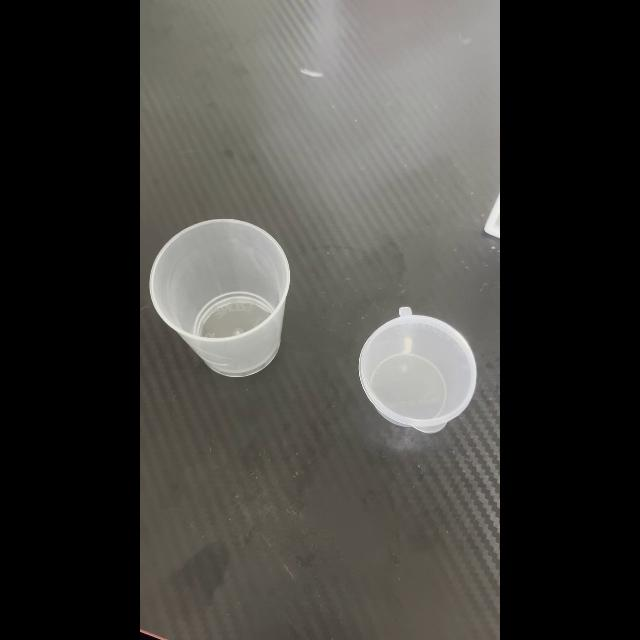clean: (148, 220, 292, 374), (358, 309, 478, 431)
